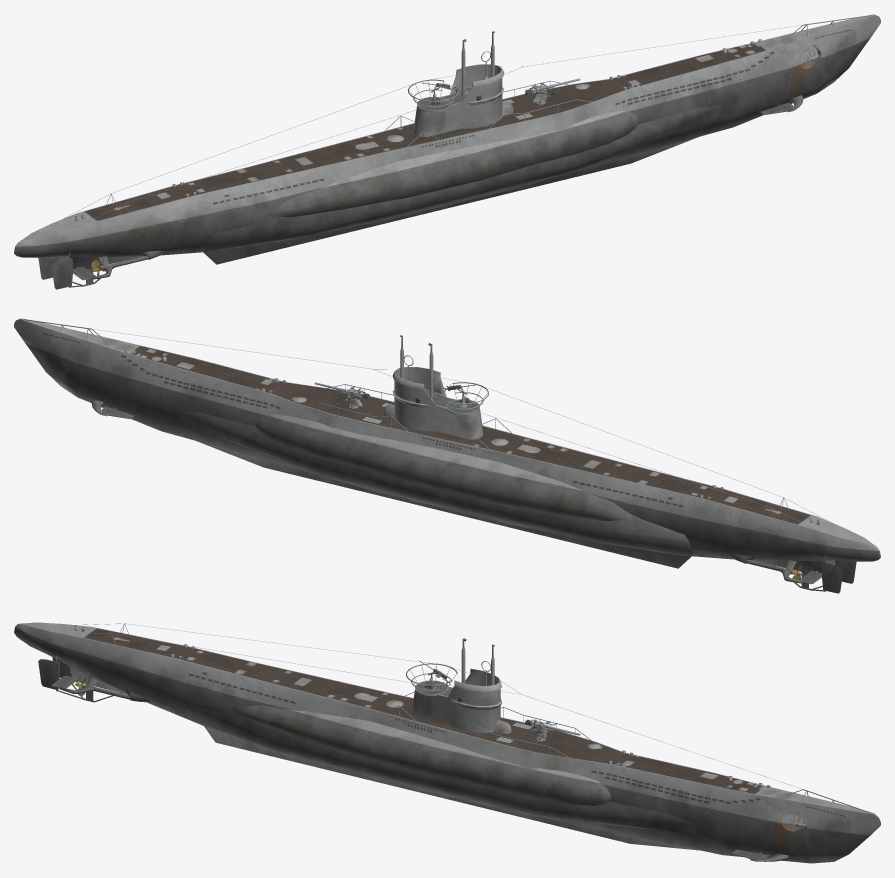
3 renders of one model, top to bottom at view 1: azimuth 30°, elevation 25°; view 2: azimuth 150°, elevation 25°; view 3: azimuth 330°, elevation 25°, orthographic.
Visible parts, largest first — view 1: U-557_Hull_0, U-557_MetalProps_2, U_557_MatalProps_Cable_1, U-557_Rudder_R_3; view 2: U-557_Hull_0, U-557_MetalProps_2, U_557_MatalProps_Cable_1, U-557_Rudder_L_4; view 3: U-557_Hull_0, U-557_MetalProps_2, U_557_MatalProps_Cable_1, U-557_Rudder_R_3.
Boxes of the visible parts, <box> form: U-557_Hull_0: <box>14,14,880,287</box>; U-557_MetalProps_2: <box>74,15,872,221</box>; U_557_MatalProps_Cable_1: <box>62,25,802,227</box>; U-557_Rudder_R_3: <box>51,252,73,289</box>; U-557_Hull_0: <box>14,318,880,591</box>; U-557_MetalProps_2: <box>22,319,820,525</box>; U_557_MatalProps_Cable_1: <box>92,329,832,531</box>; U-557_Rudder_L_4: <box>821,556,843,593</box>; U-557_Hull_0: <box>14,622,880,863</box>; U-557_MetalProps_2: <box>74,623,873,813</box>; U_557_MatalProps_Cable_1: <box>62,623,802,789</box>; U-557_Rudder_R_3: <box>38,656,59,690</box>.
Size of the model in its own units: 67.15 by 12.22 by 6.77.
Materials: 7 (7 with a texture image).
